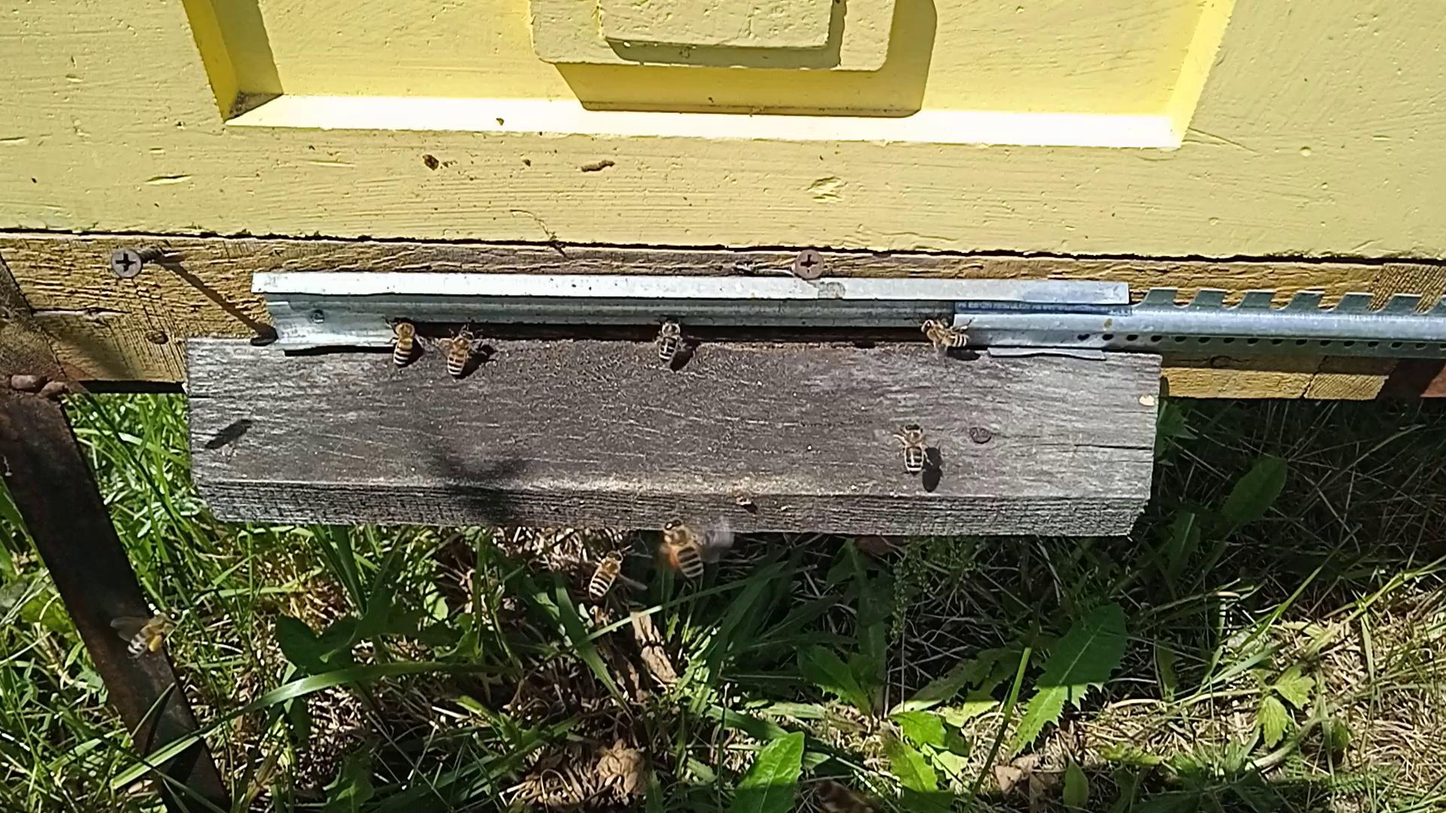worker-bee: (660, 517, 705, 580), (126, 607, 178, 658), (810, 781, 886, 813), (589, 549, 627, 598), (918, 317, 970, 350), (445, 327, 479, 377), (389, 316, 419, 367), (899, 422, 927, 476), (655, 316, 686, 364)
